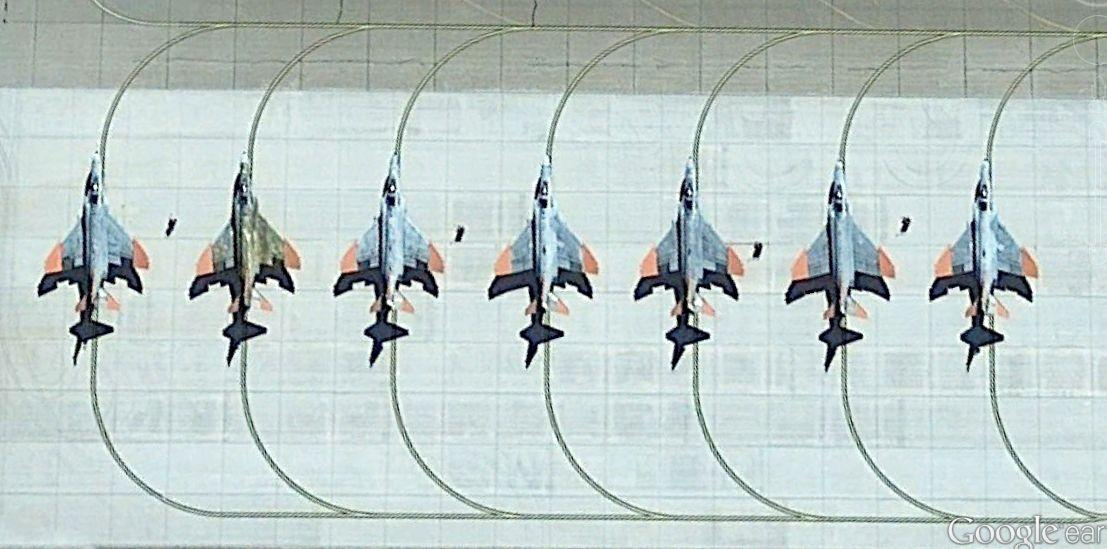plane: (340, 150, 449, 343), (39, 153, 149, 333), (193, 151, 297, 340), (790, 156, 899, 336), (938, 153, 1044, 334), (640, 159, 745, 327), (494, 160, 600, 320)
